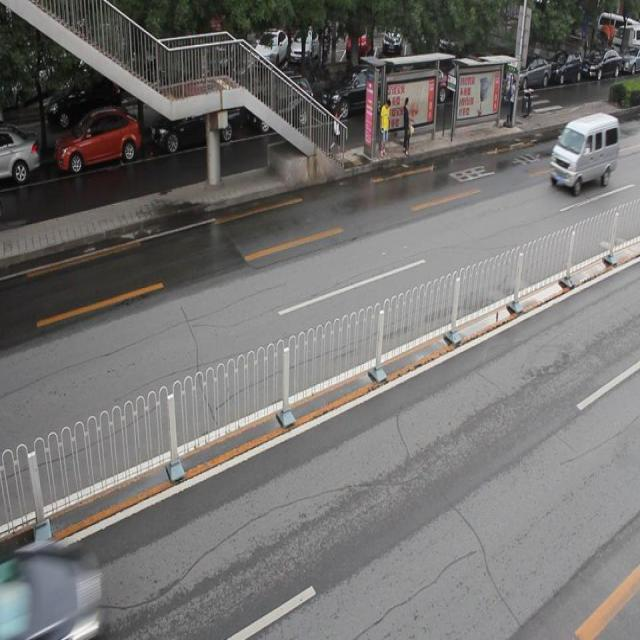car: (1, 538, 105, 640), (55, 105, 142, 172), (151, 95, 241, 150), (247, 74, 314, 131), (321, 65, 389, 119), (1, 126, 42, 184)
truck: (548, 115, 619, 191)
